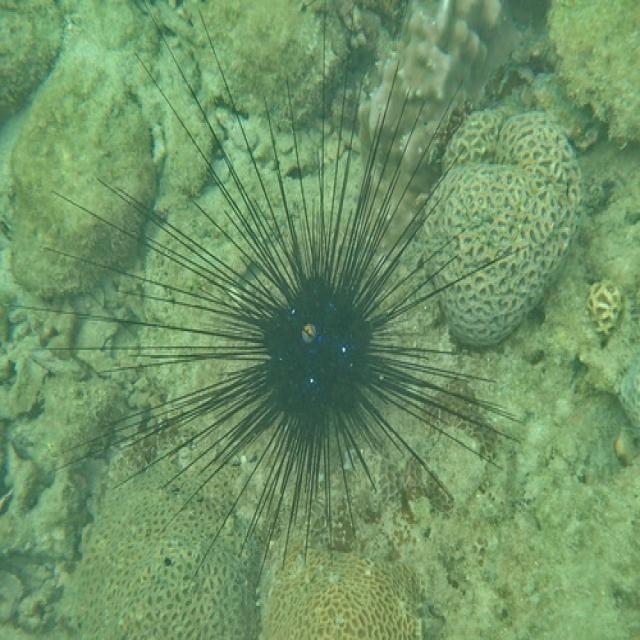Urchin: (54, 10, 527, 572)
